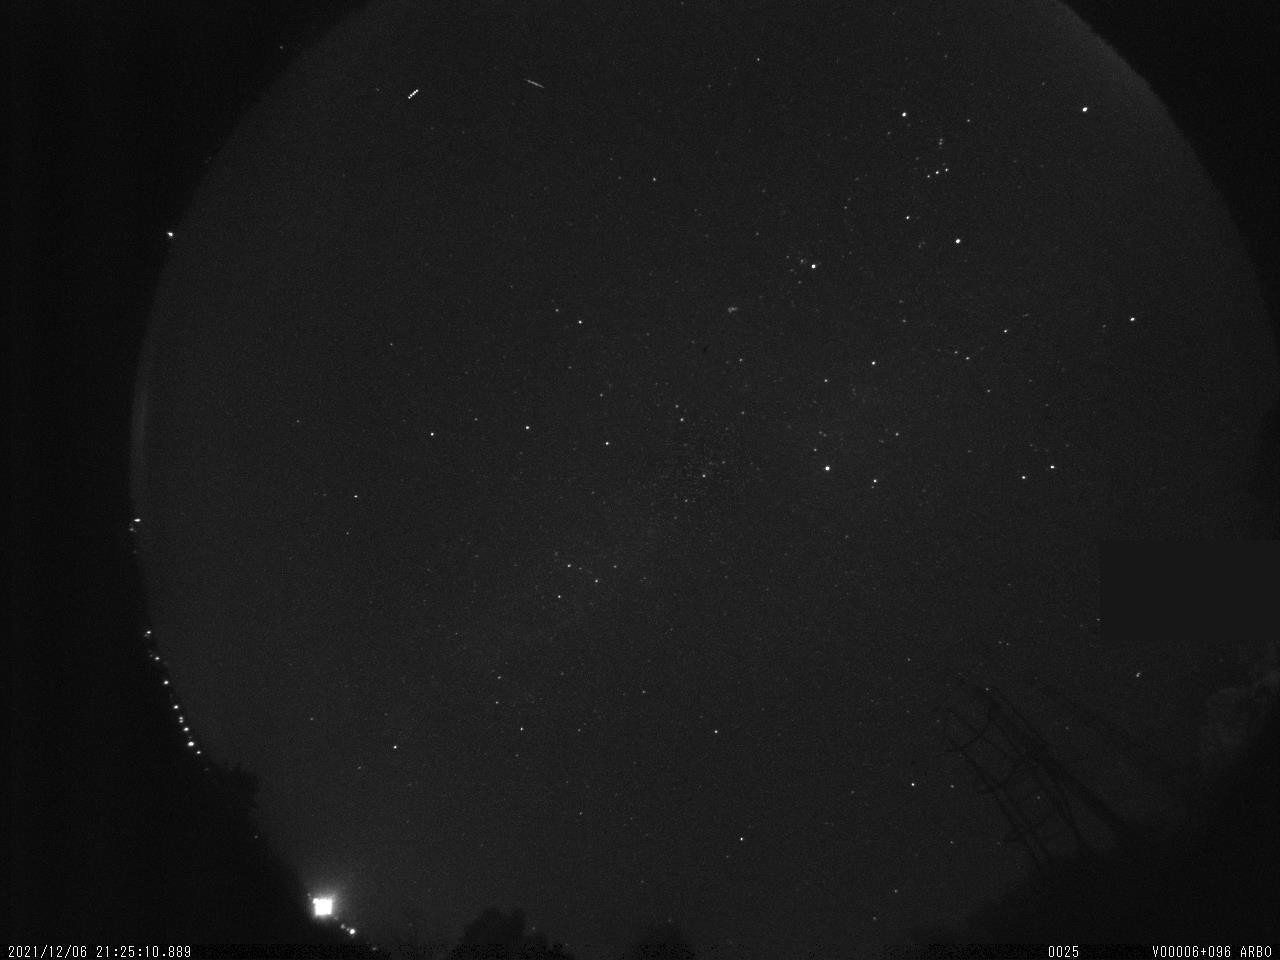meteor: (511, 70, 554, 100)
